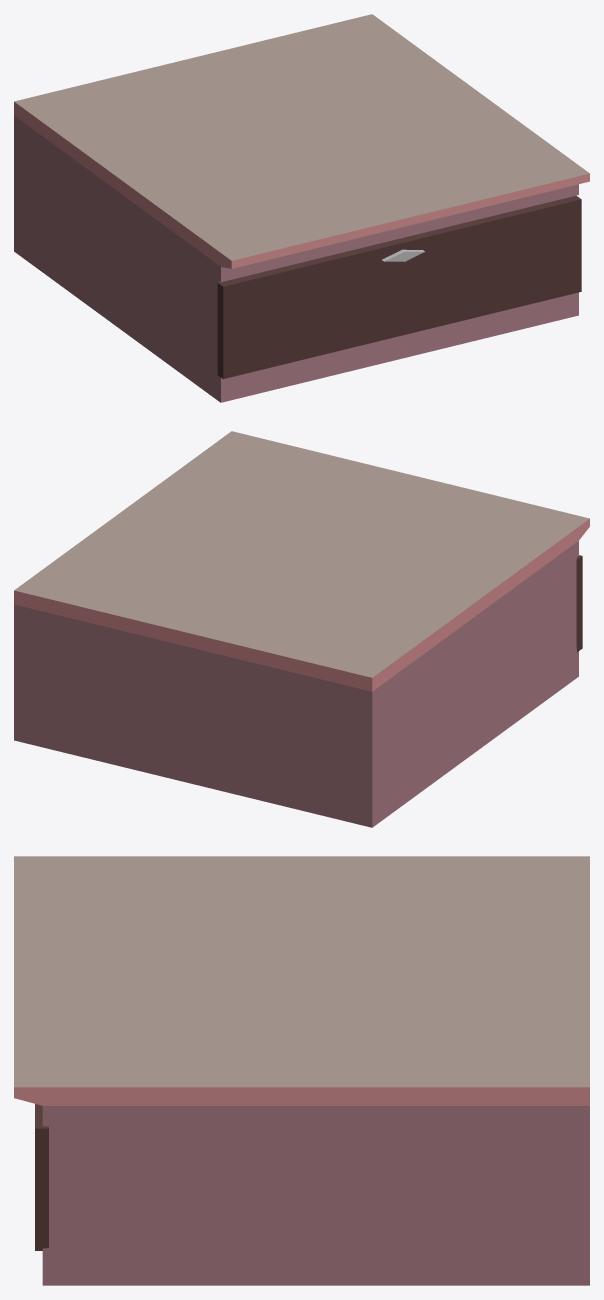
File: Res01_KitchenCabinate1.fbx
The picture shows the model from 3 angles, top to bottom: view 1: azimuth 30°, elevation 25°; view 2: azimuth 150°, elevation 25°; view 3: azimuth 270°, elevation 25°; orthographic projection. The views are drawn at different scales.
Parts seen in each view (by area): view 1: Res01_KitchenCabinate1; view 2: Res01_KitchenCabinate1; view 3: Res01_KitchenCabinate1.
Boxes of the visible parts, <box> form: Res01_KitchenCabinate1: <box>14,14,589,402</box>; Res01_KitchenCabinate1: <box>14,431,589,827</box>; Res01_KitchenCabinate1: <box>14,856,589,1285</box>.
Size of the model in its own units: 200 by 80 by 211.
